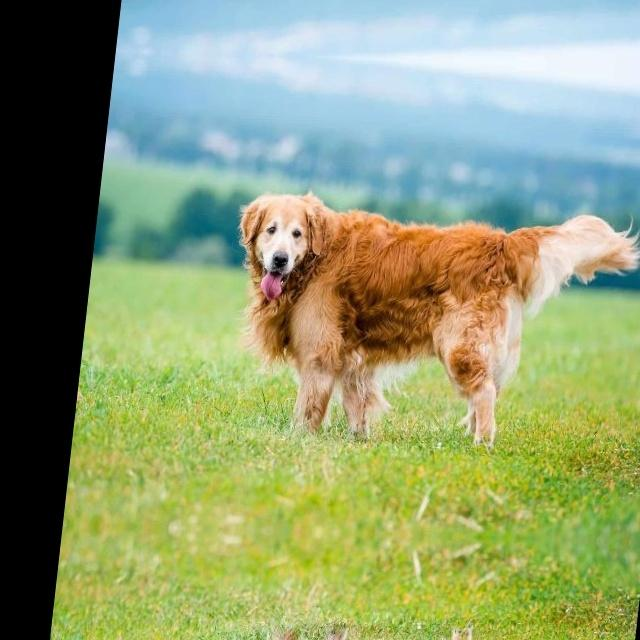dog: (182, 154, 607, 443), (158, 623, 554, 640)
